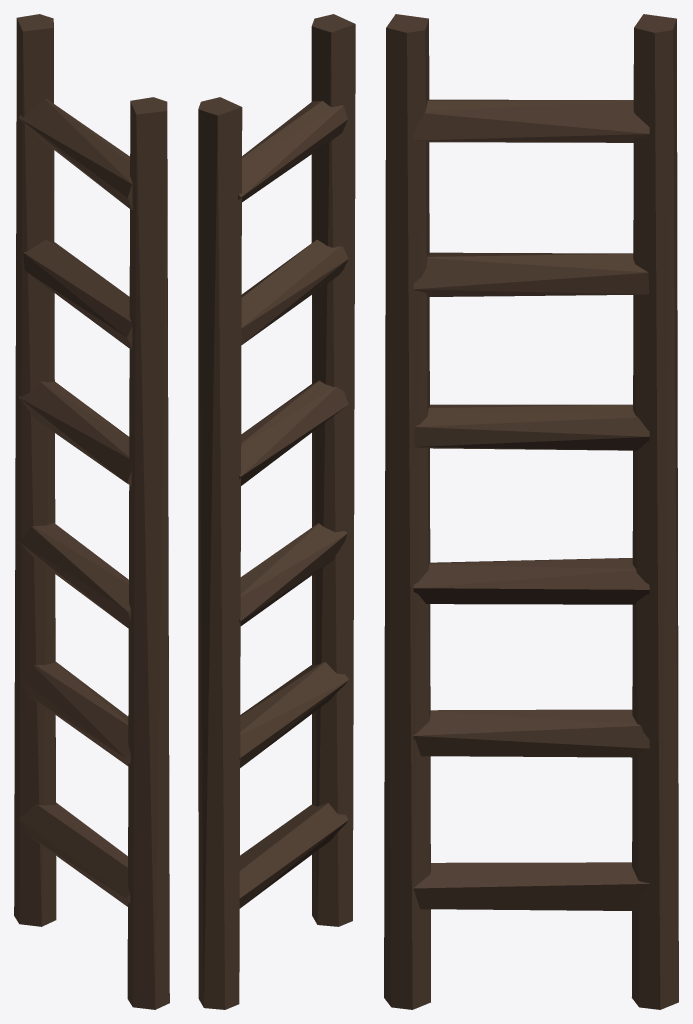
File: ladder_01.fbx
3 views of the same model, side by side, from view 1: azimuth 30°, elevation 25°; view 2: azimuth 150°, elevation 25°; view 3: azimuth 270°, elevation 25° (orthographic). The views are drawn at different scales.
Parts seen in each view (by area): view 1: Cylinder, Cylinder.002, Cylinder.001; view 2: Cylinder.001, Cylinder, Cylinder.002; view 3: Cylinder.002, Cylinder.001, Cylinder.
Part boxes in pixels (x1,y1,x2,y2): Cylinder: (127,97,169,1009); Cylinder.002: (18,98,132,906); Cylinder.001: (14,14,56,926); Cylinder.001: (198,97,242,1009); Cylinder: (311,14,355,926); Cylinder.002: (238,100,348,908); Cylinder.002: (413,99,649,910); Cylinder.001: (631,14,678,1009); Cylinder: (384,14,430,1009).
Size of the model in its own units: 83.78 by 1828 by 500.
